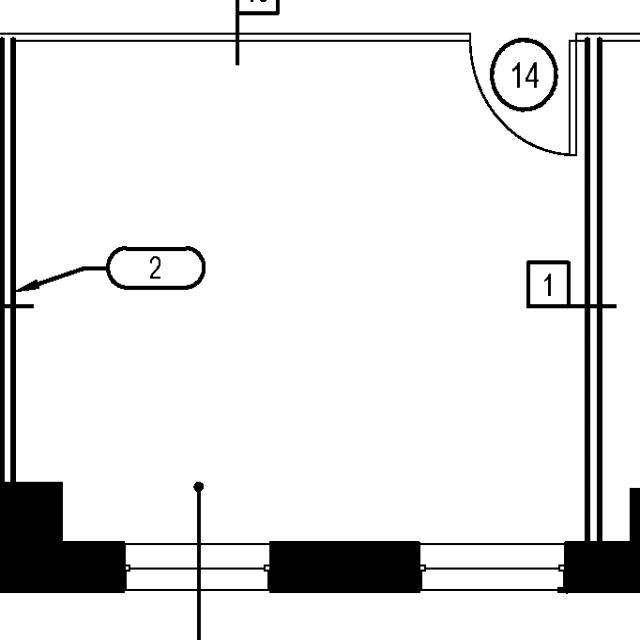Doors: (463, 27, 583, 165)
